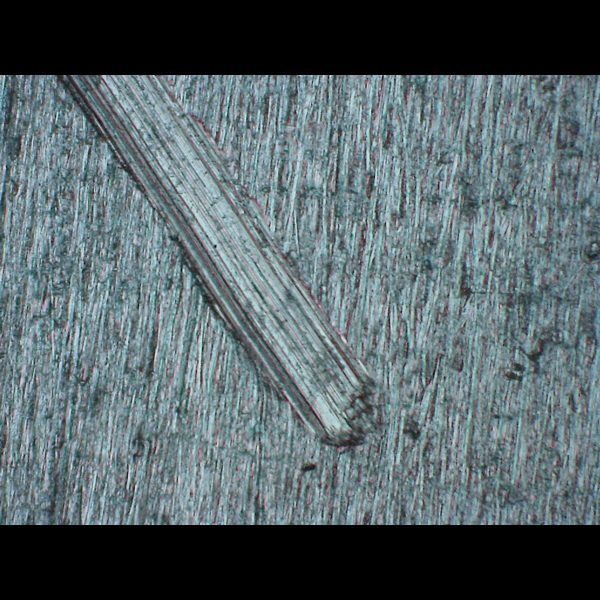d: (48, 75, 382, 457)
